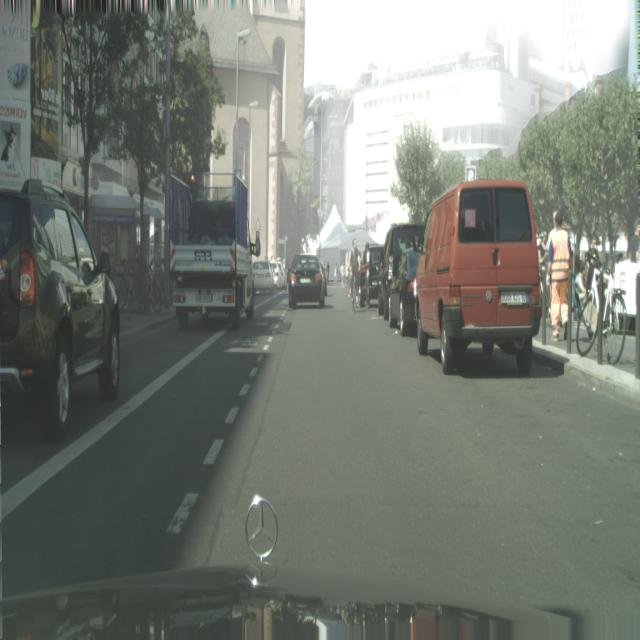car: (574, 256, 627, 365), (347, 238, 361, 314)
person: (546, 211, 571, 344)
rider: (169, 171, 256, 332)
truck: (0, 179, 121, 441), (414, 179, 542, 377), (377, 223, 424, 324), (392, 243, 422, 336), (288, 253, 327, 309), (360, 243, 383, 311), (252, 259, 275, 294), (269, 258, 285, 289)
